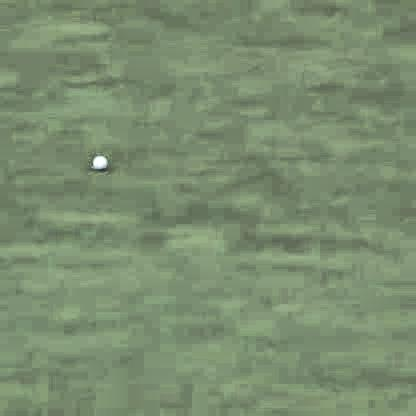golfball: (91, 150, 107, 168)
